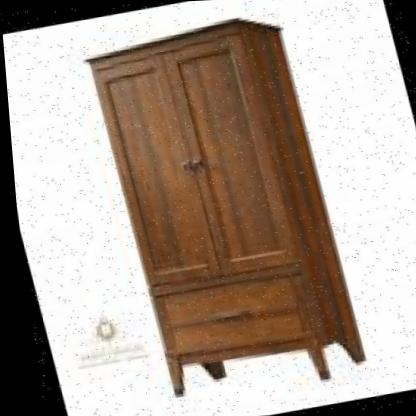Closet: (67, 2, 375, 416)
